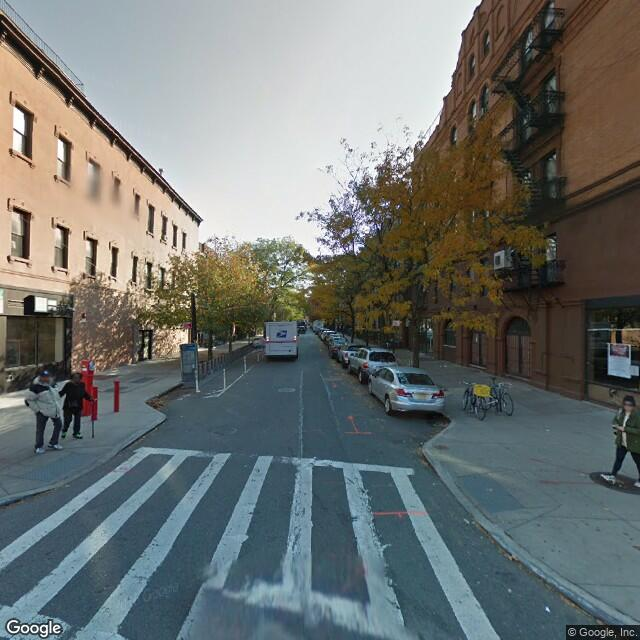litter: (464, 517, 471, 523), (545, 606, 551, 612), (545, 427, 553, 431)
